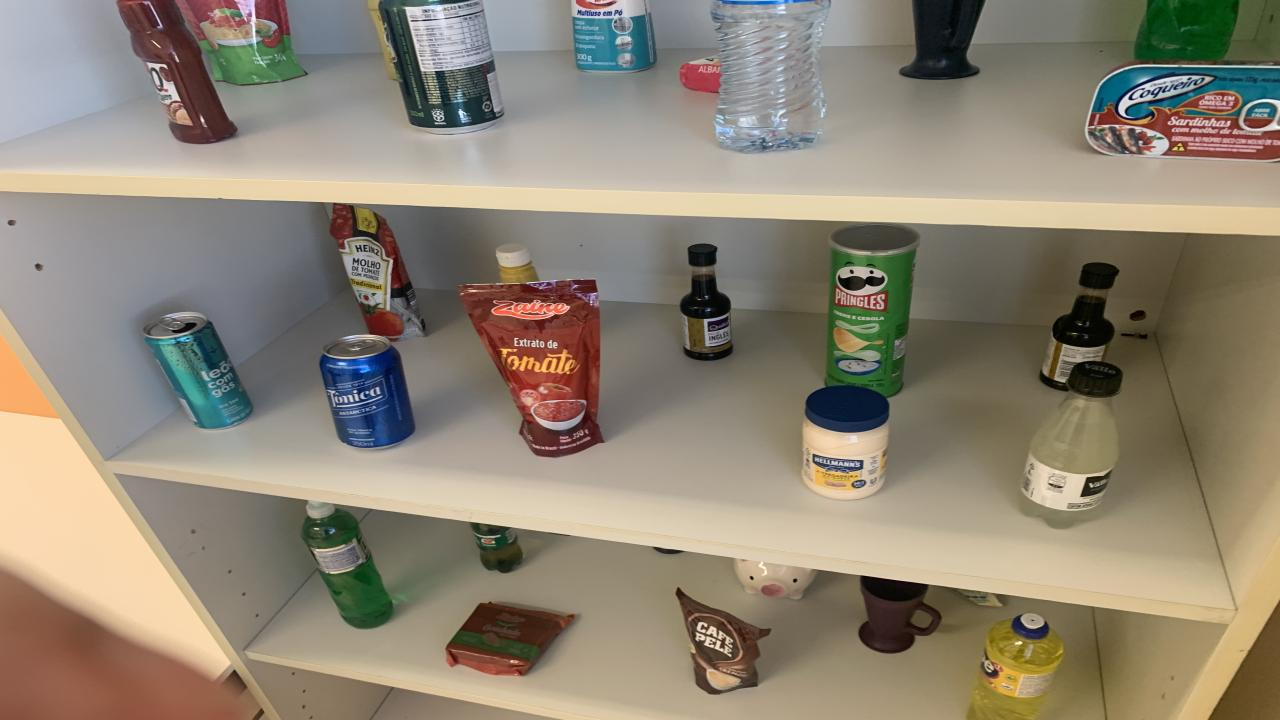Cleaner-Cleanup_Items: (570, 0, 655, 71)
Coffee-Pantry_Items: (675, 589, 770, 694)
Detergent-Cleanup_Items: (302, 501, 392, 628), (968, 613, 1062, 718), (1135, 0, 1240, 60)
English_Sauce-Pantry_Items: (1040, 262, 1118, 390), (680, 244, 732, 360)
Flakes-Snacks: (952, 589, 1002, 608)
Guarana-Drinks: (470, 523, 522, 572)
Guarana_Can-Drinks: (380, 1, 502, 134)
Guava-Snacks: (445, 602, 575, 675)
Ketchup-Pantry_Items: (118, 0, 238, 144)
Mayonnaise-Pantry_Items: (802, 386, 890, 501)
Mustard-Pantry_Items: (368, 0, 398, 81), (495, 244, 538, 283)
Pig_Safe-Miscellaneous: (735, 559, 818, 600)
Pringles-Snacks: (825, 223, 920, 396)
Soap-Cleanup_Items: (680, 56, 720, 92)
Soda-Drinks: (1020, 362, 1122, 529)
Tea-Drinks: (142, 311, 252, 429)
Tomato_Sauce-Pantry_Items: (460, 279, 602, 458), (330, 204, 425, 341), (180, 0, 305, 84)
Tonic-Drinks: (320, 334, 415, 448)
Tuna_Can-Pantry_Items: (1085, 62, 1280, 161)
Water_Bottle-Drinks: (710, 0, 830, 152)
